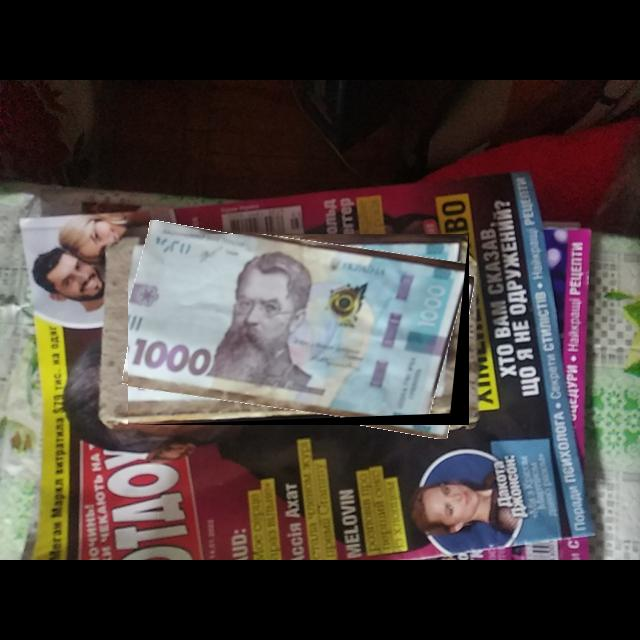1000uah: (128, 234, 470, 426)
